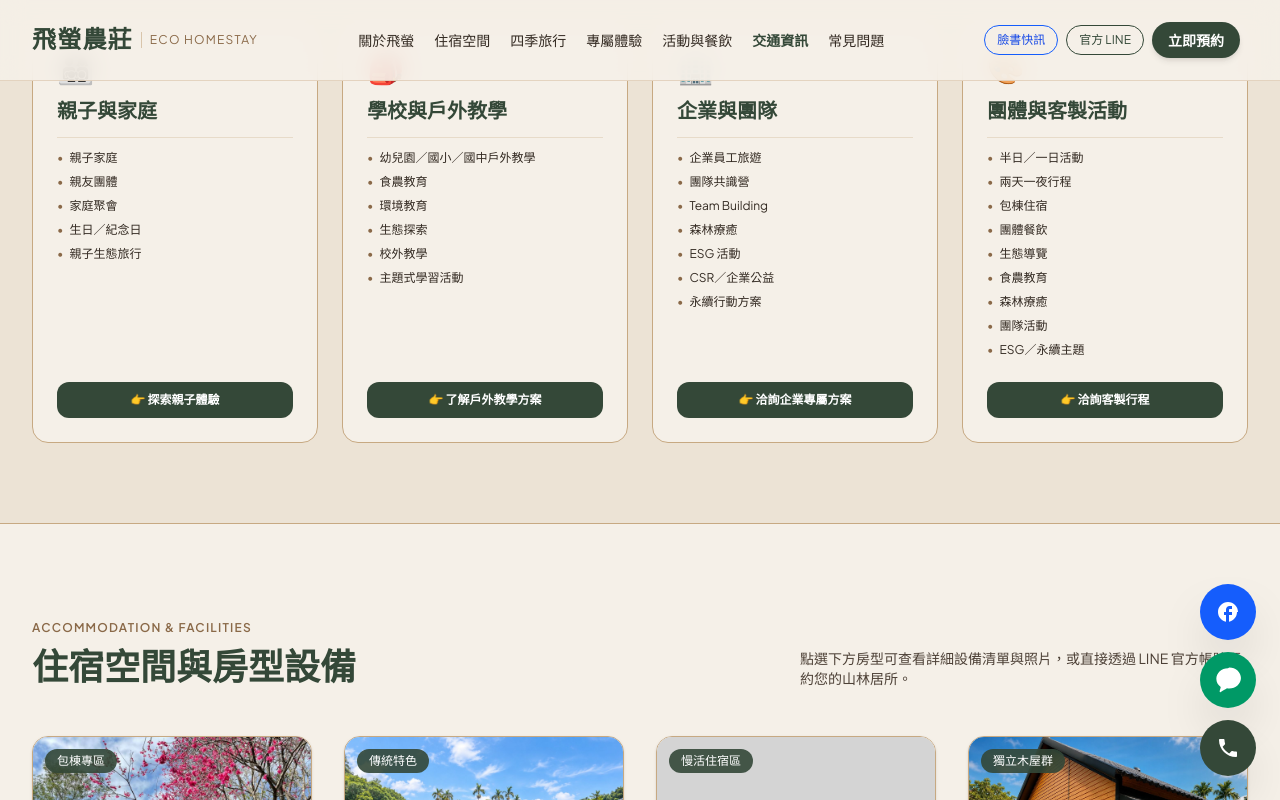
Test: <Site /> › opens the EDM modal from an edm link
(page scrolled)
Click the button "👉 了解戶外教學方案" at {"x": 485, "y": 400}, box [367, 382, 603, 418]
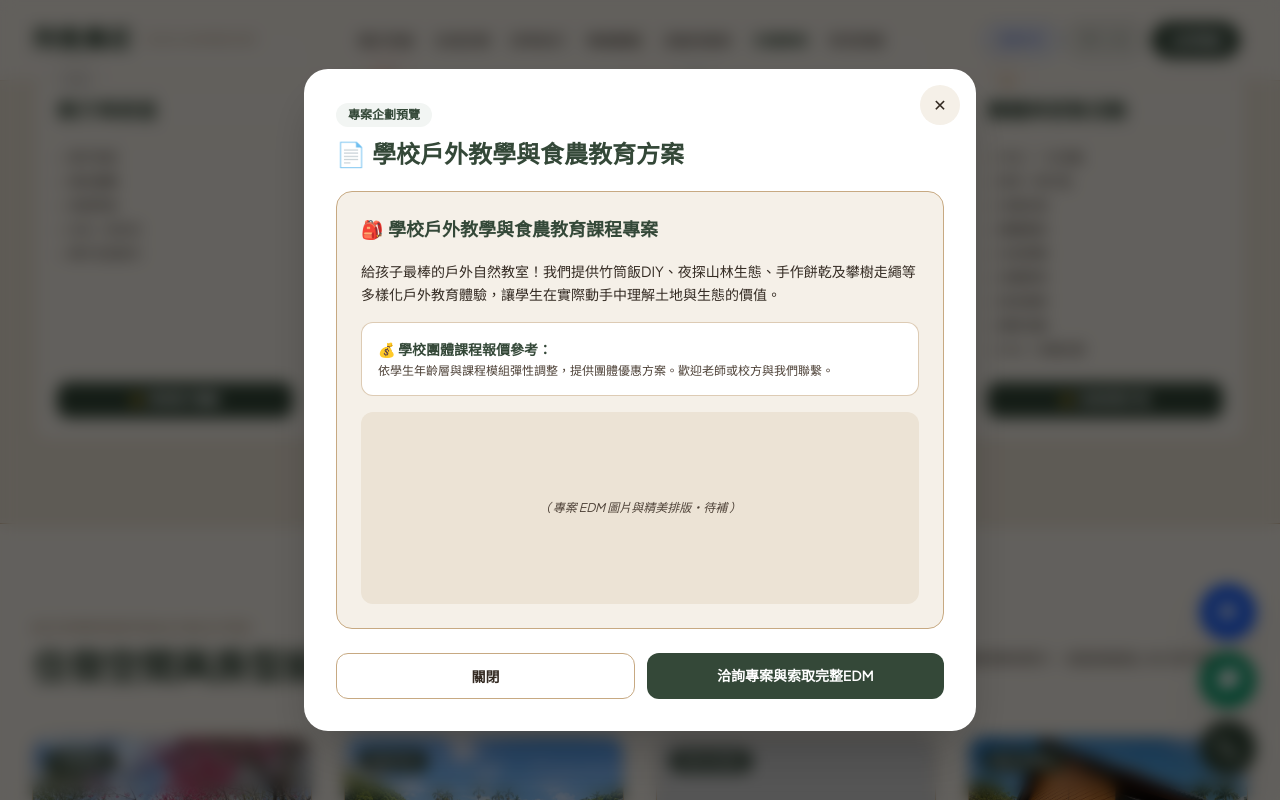
Expected: the heading "📄 學校戶外教學與食農教育方案" is shown, [336, 142, 684, 168]
